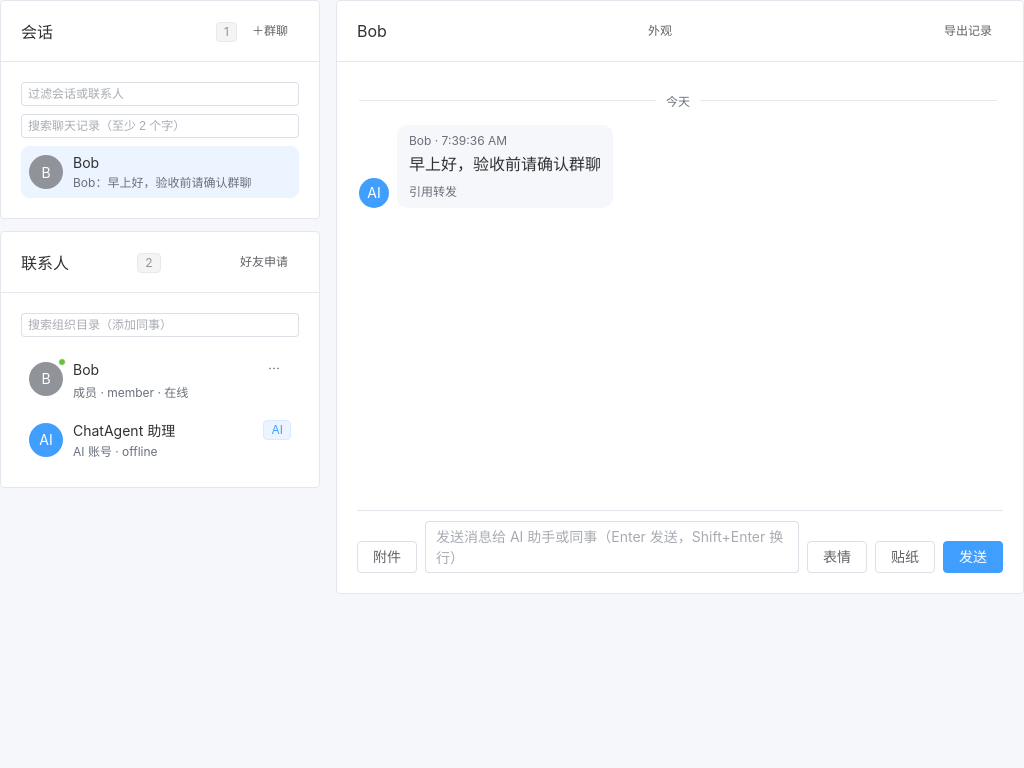
it: ChatView › finds a colleague by their personal id, not only by display name
Type "carol.q" into the field with placeholder "搜索组织目录（添加同事）" at [160, 325], box [28, 314, 292, 336]
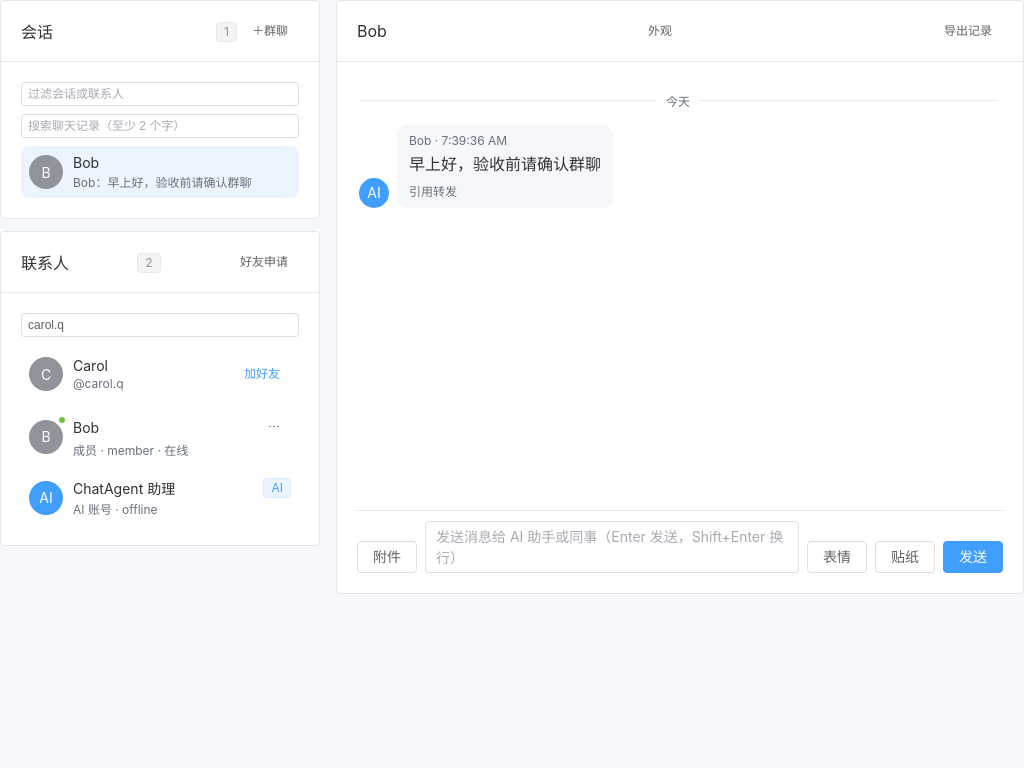
Expected: the number of elements with test id "directory-result" is 1, [21, 349, 299, 399]
Expected: the element with test id "directory-result" shows "Carol", [73, 357, 108, 374]
Expected: the element with test id "directory-result" shows "@carol.q", [73, 376, 124, 391]
